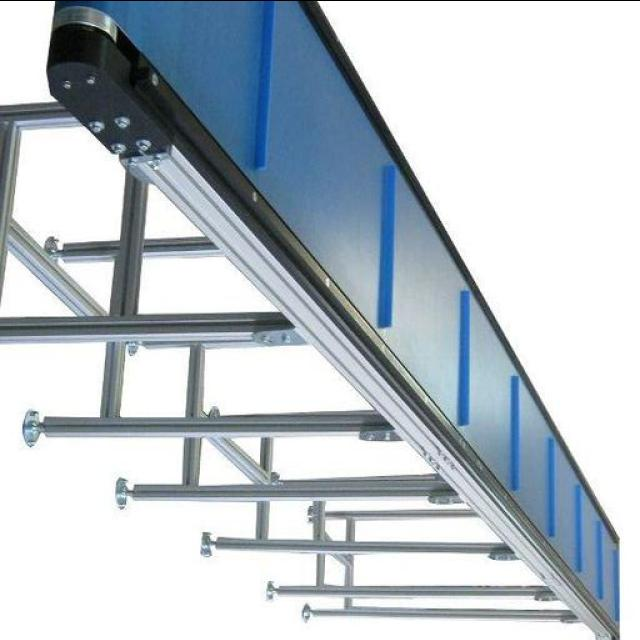conveyor: (64, 0, 620, 637)
